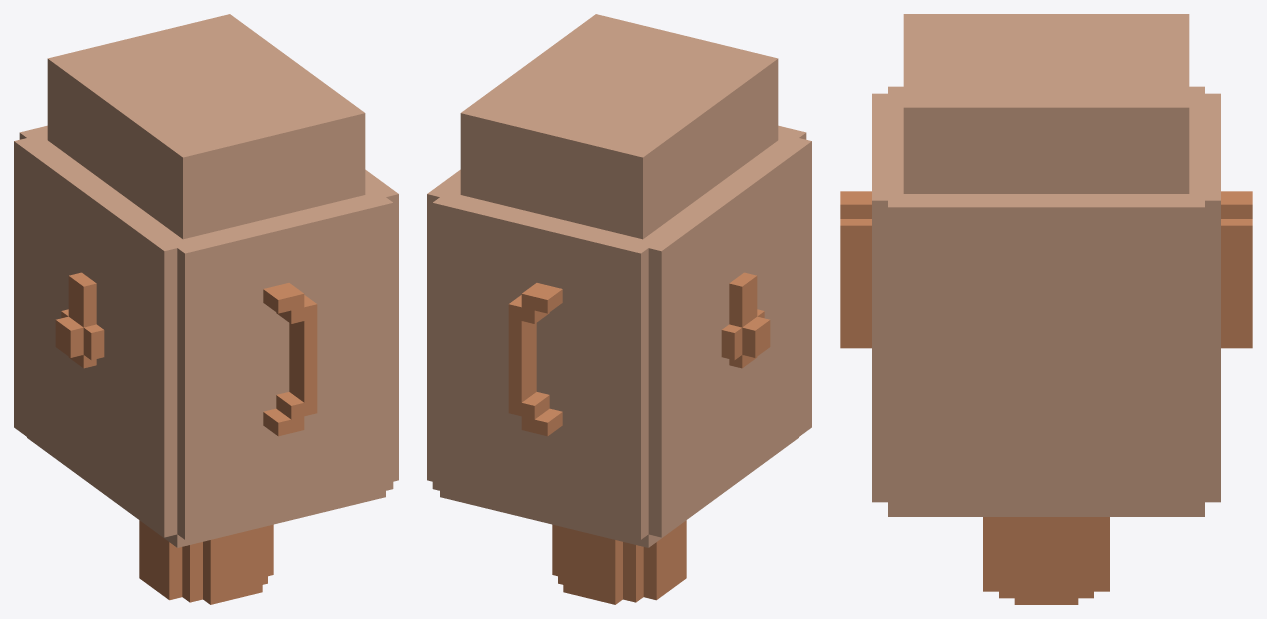
The model's file is head_dwarf.obj.
3 renders of one model, left to right at view 1: azimuth 30°, elevation 25°; view 2: azimuth 150°, elevation 25°; view 3: azimuth 270°, elevation 25°, orthographic. The views are drawn at different scales.
Parts seen in each view (by area): view 1: head_human_box; view 2: head_human_box; view 3: head_human_box.
Part boxes in pixels (x1=…): head_human_box: x1=14, y1=14, x2=398, y2=604; head_human_box: x1=427, y1=14, x2=811, y2=604; head_human_box: x1=840, y1=14, x2=1252, y2=604.
Bounding box in the file's own units: 20 × 36 × 26.
